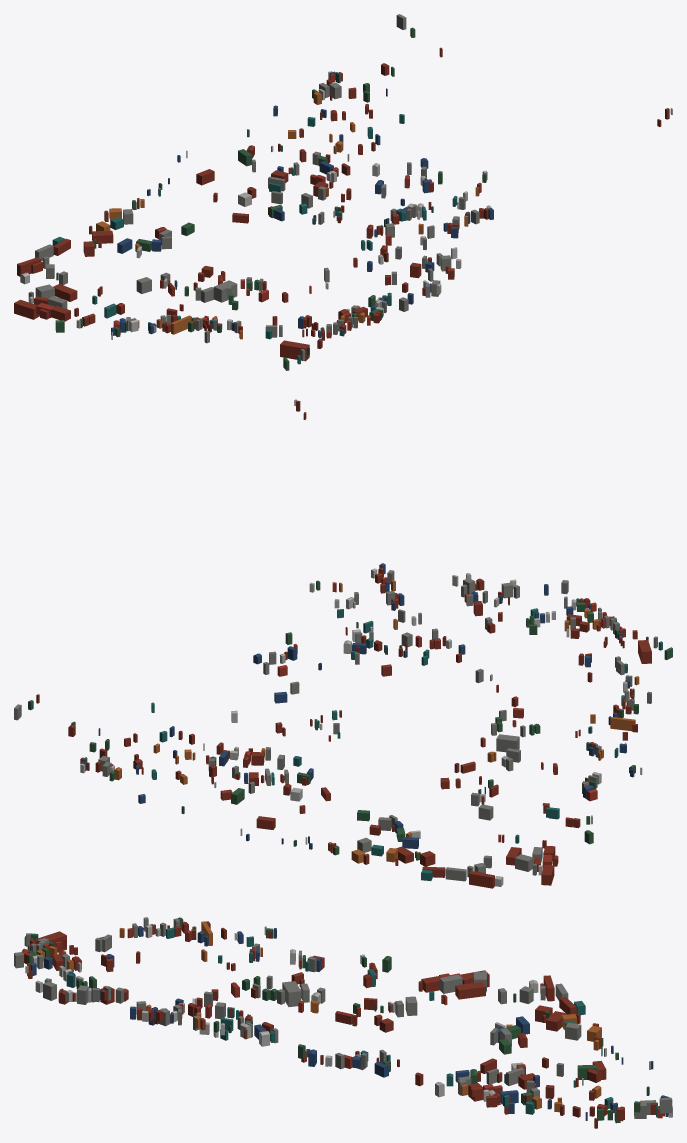
The model's file is near-15-27364-14861.7105e191.glb.
3 views of the same model, one above another, from view 1: azimuth 30°, elevation 25°; view 2: azimuth 150°, elevation 25°; view 3: azimuth 270°, elevation 25° (orthographic). The views are drawn at different scales.
Bounding box in the file's own units: 1117 × 533 × 1158.
